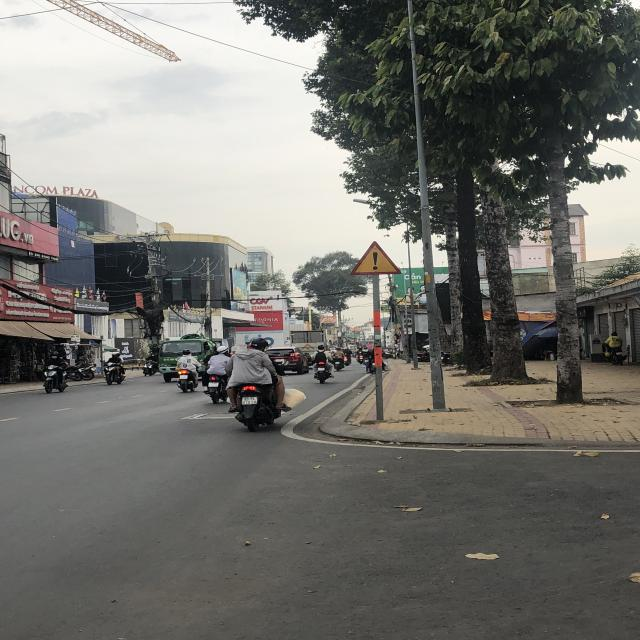Bien bao nguy hiem khac: (348, 240, 402, 278)
